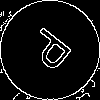P: (25, 25, 81, 79)
